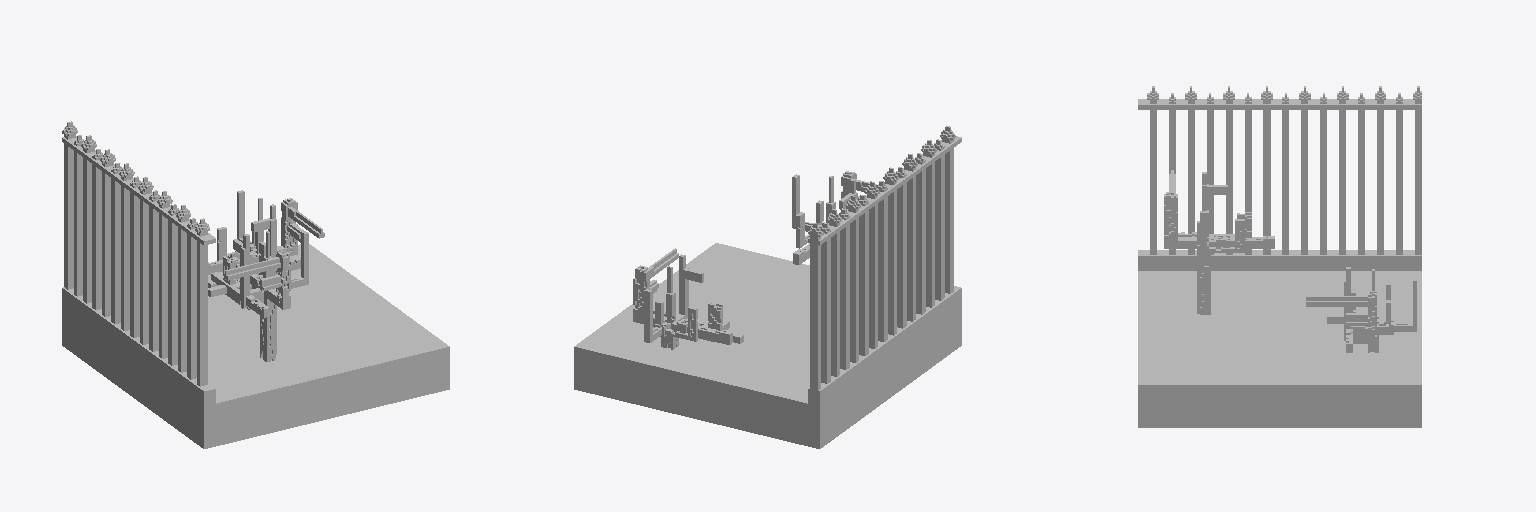
The model's file is 3d fon 3.1-3.obj.
3 views of the same model, side by side, from view 1: azimuth 30°, elevation 25°; view 2: azimuth 150°, elevation 25°; view 3: azimuth 270°, elevation 25° (orthographic).
Visible parts, largest first — view 1: object 1; view 2: object 1; view 3: object 1.
Boxes of the visible parts, box(x1,y1,x2,y2) form: object 1: box(62, 121, 449, 448); object 1: box(574, 126, 961, 448); object 1: box(1138, 86, 1421, 427).
Bounding box in the file's own units: 12 × 10.4 × 12.